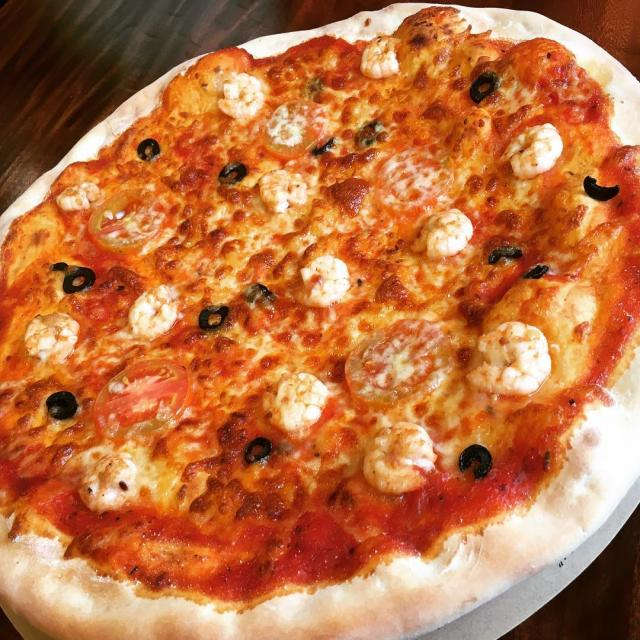black_olives: (52, 262, 96, 294), (459, 444, 492, 479), (584, 176, 620, 202), (469, 72, 499, 103), (46, 390, 76, 420), (357, 120, 388, 148), (198, 306, 228, 330), (244, 436, 271, 462), (244, 283, 276, 304), (218, 162, 248, 184), (489, 246, 522, 264), (138, 138, 160, 161), (311, 137, 335, 155), (524, 265, 548, 279)
pizza: (0, 4, 640, 636)
